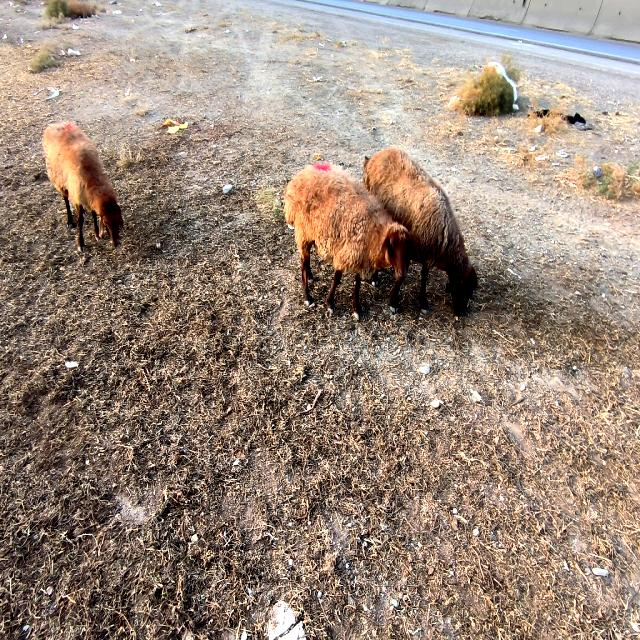sheep: (362, 147, 478, 317), (285, 165, 411, 318), (42, 122, 122, 251)
